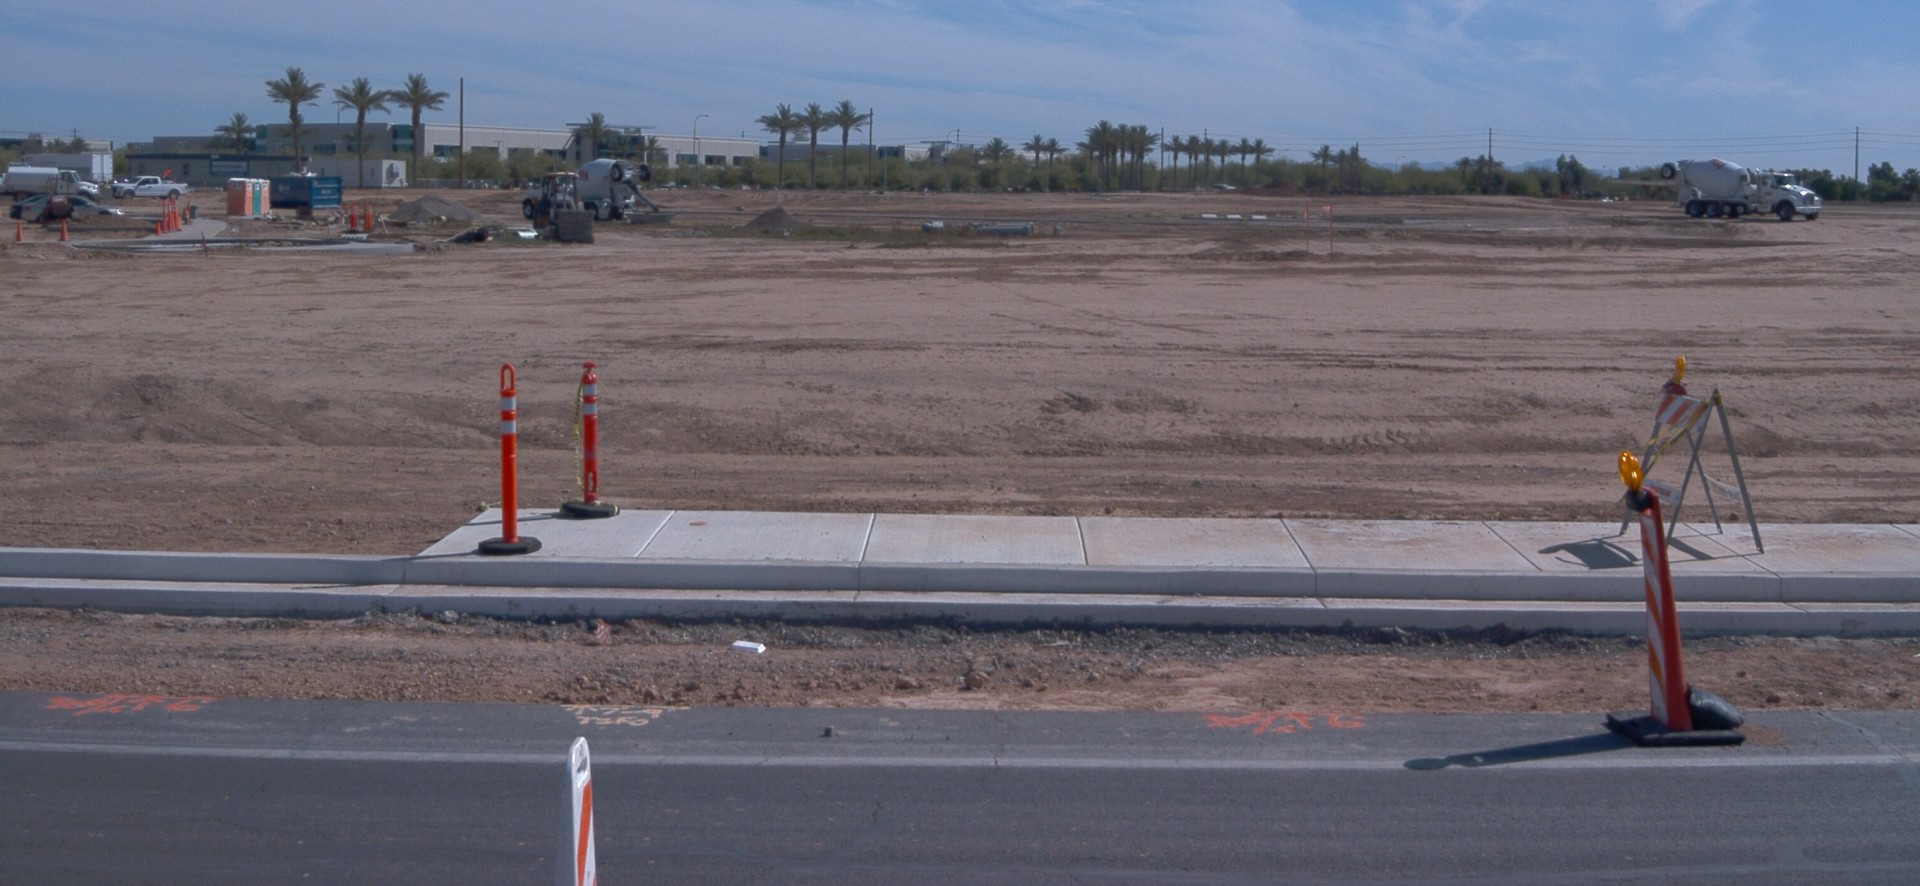TYPE_VEHICLE: (1658, 155, 1824, 224), (1658, 155, 1824, 224), (1658, 155, 1824, 224), (1658, 155, 1824, 224), (519, 157, 661, 220), (519, 157, 661, 220), (519, 157, 661, 220), (519, 157, 661, 220), (528, 168, 596, 247), (528, 168, 596, 247), (528, 168, 596, 247), (528, 168, 596, 247), (5, 165, 103, 210), (5, 165, 103, 210), (5, 165, 103, 210), (5, 165, 103, 210), (28, 147, 114, 191), (28, 147, 114, 191), (28, 147, 114, 191), (28, 147, 114, 191), (18, 192, 126, 225), (18, 192, 126, 225), (18, 192, 126, 225), (18, 192, 126, 225), (111, 174, 192, 203), (111, 174, 192, 203), (111, 174, 192, 203), (111, 174, 192, 203), (38, 175, 77, 224), (38, 175, 77, 224), (38, 175, 77, 224), (38, 175, 77, 224), (5, 195, 43, 219), (5, 195, 43, 219), (5, 195, 43, 219), (5, 195, 43, 219), (1212, 182, 1236, 193), (1212, 182, 1236, 193), (1212, 182, 1236, 193), (1212, 182, 1236, 193)
